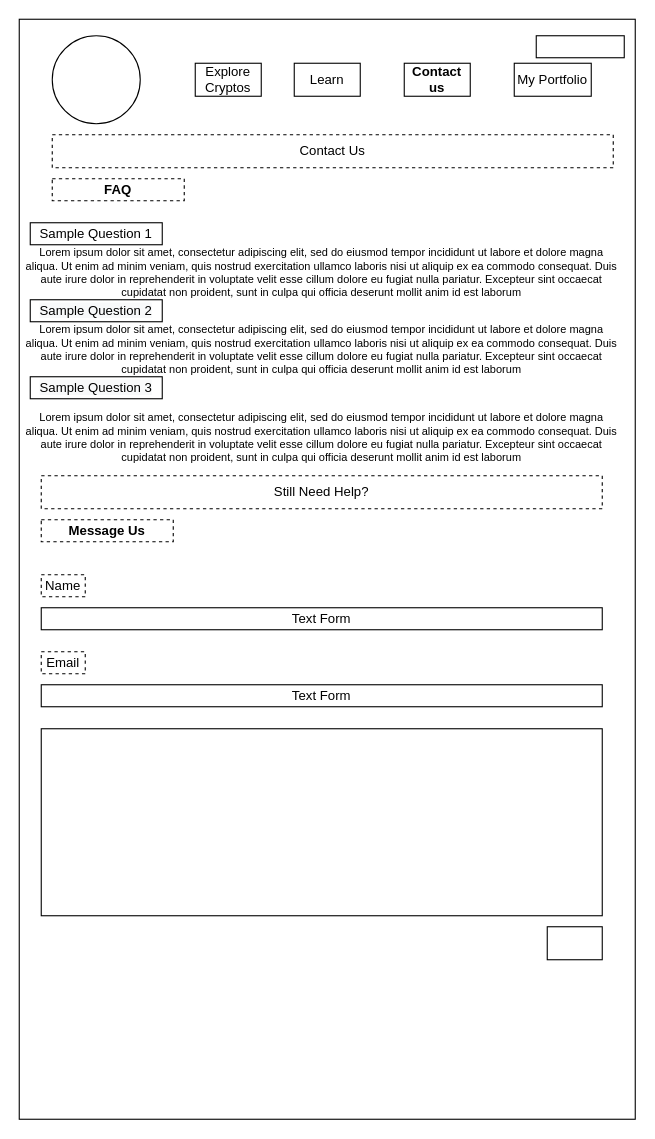
This 655x1139 diagram has some shape labels left out. Each missing label, with the centre of its shape:
"Log Out" belongs at pixel 579 46.
"MyCryptoPal" belongs at pixel 95 79.
"Send" belongs at pixel 574 943.
"Write Us A Message Here" belongs at pixel 321 822.
